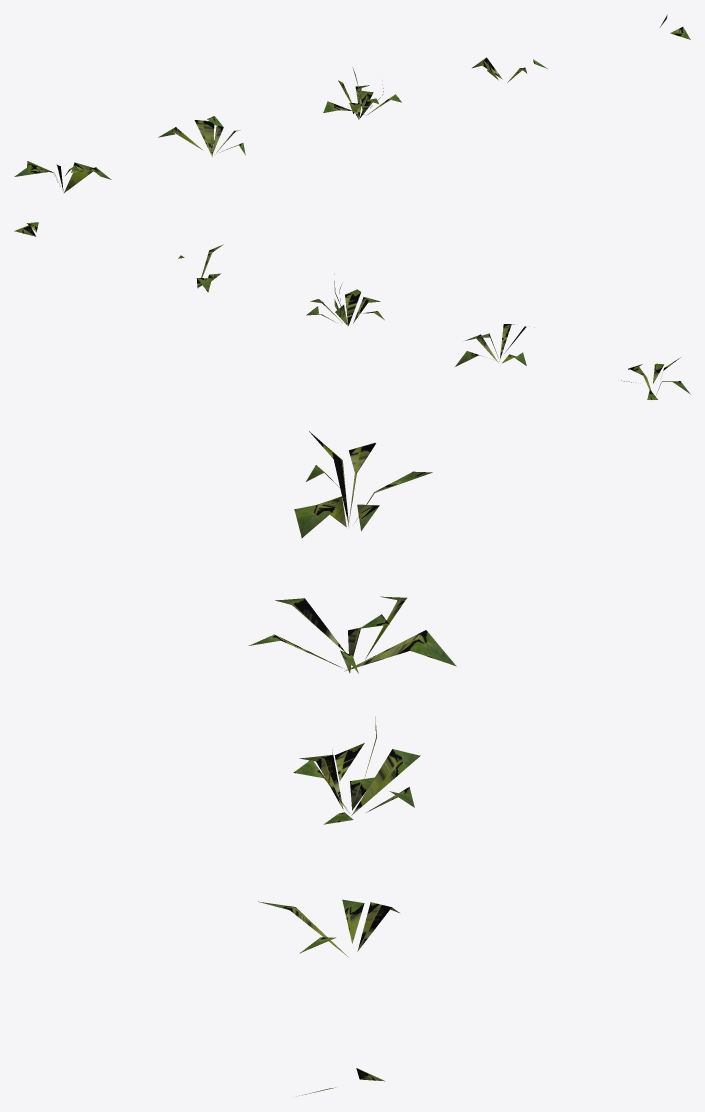
The model's file is celandine_01.glb.
3 renders of one model, top to bottom at view 1: azimuth 30°, elevation 25°; view 2: azimuth 150°, elevation 25°; view 3: azimuth 270°, elevation 25°, orthographic. The views are drawn at different scales.
Parts seen in each view (by area): view 1: celandine_01_a_LOD0; view 2: celandine_01_a_LOD0; view 3: celandine_01_a_LOD0.
Part boxes in pixels (<box>): celandine_01_a_LOD0: <box>14,14,690,192</box>; celandine_01_a_LOD0: <box>14,222,690,399</box>; celandine_01_a_LOD0: <box>249,431,456,1096</box>.
Bounding box in the file's own units: 2.22 × 0.1687 × 0.305.
1 material, 1 textured.
